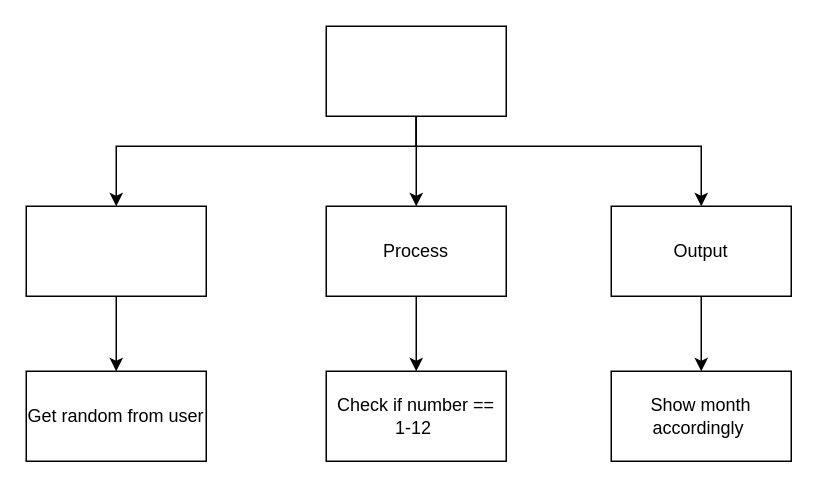
This 818x488 diagram has some shape labels left out. Each missing label, with the centre of its shape:
Input: point 115,250
Month Program: point 415,70
